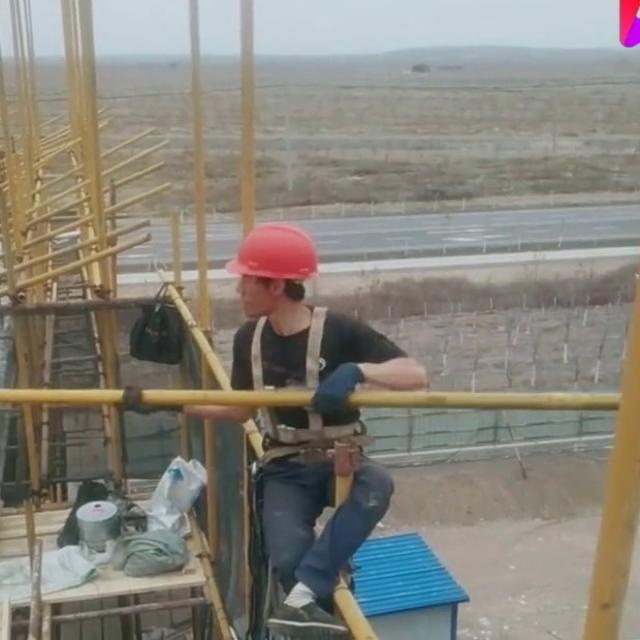Arnes_seguridad: (243, 303, 370, 447)
